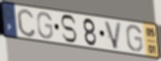8: (82, 18, 97, 47)
C: (16, 7, 37, 39)
G: (125, 24, 144, 53), (36, 11, 54, 41)
S: (60, 14, 78, 45)
V: (103, 20, 123, 51)
